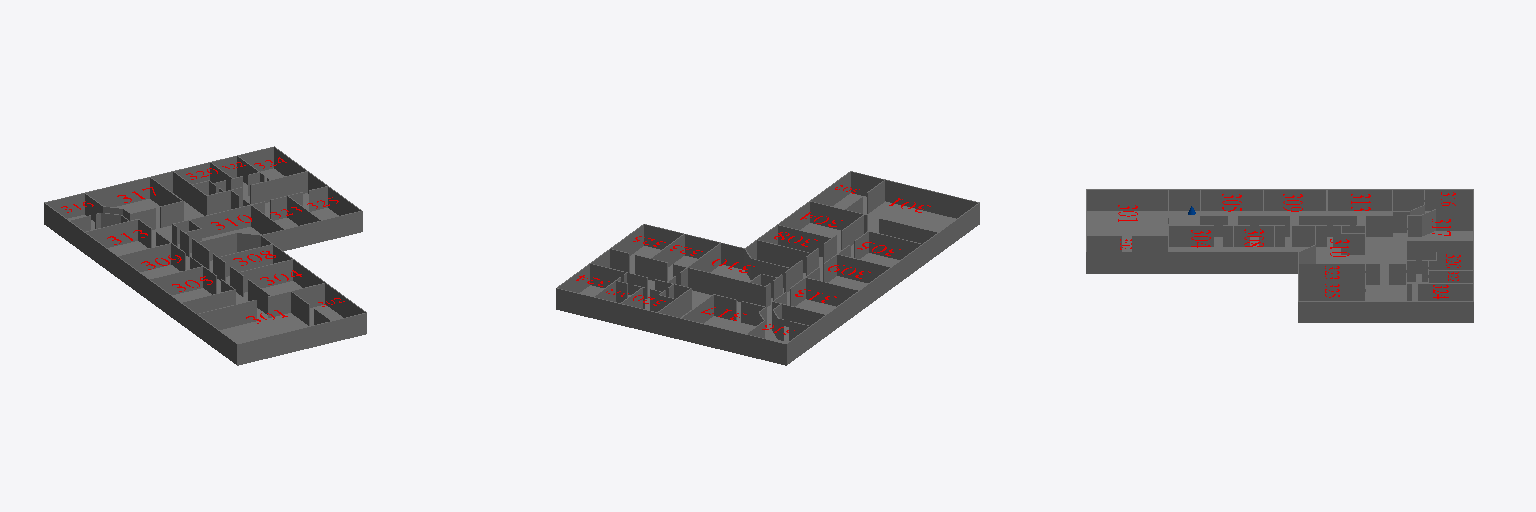
Rendered from sage3.obj.
3 renders of one model, left to right at view 1: azimuth 30°, elevation 25°; view 2: azimuth 150°, elevation 25°; view 3: azimuth 270°, elevation 25°, orthographic.
Parts seen in each view (by area): view 1: polySurface1 polySurface9, polySurface1 polySurface3, polySurface1 polySurface11, polySurface1 polySurface7, polySurface1 polySurface10, polySurface1 polySurface12, polySurface1 polySurface21, polySurface1 polySurface8, polySurface1 polySurface15, polySurface1 polySurface40, polySurface1 polySurface43, polySurface1 polySurface61 (+11 smaller); view 2: polySurface1 polySurface9, polySurface1 polySurface3, polySurface1 polySurface10, polySurface1 polySurface11, polySurface1 polySurface8, polySurface1 polySurface21, polySurface1 polySurface7, polySurface1 polySurface12, polySurface2 polySurface1, polySurface1 polySurface43, polySurface1 polySurface47, polySurface1 polySurface49 (+9 smaller); view 3: polySurface1 polySurface9, polySurface1 polySurface3, polySurface1 polySurface12, polySurface1 polySurface6, polySurface1 polySurface16, polySurface1 polySurface4, polySurface1 polySurface44, polySurface1 polySurface68, polySurface2 polySurface1, polySurface1 polySurface19, polySurface1 polySurface62, polySurface1 polySurface28 (+9 smaller).
Boxes of the visible parts, x1,y1,x2,y2 form: polySurface1 polySurface9: [44, 203, 237, 365]; polySurface1 polySurface3: [68, 193, 342, 343]; polySurface1 polySurface11: [238, 313, 366, 365]; polySurface1 polySurface7: [261, 211, 362, 250]; polySurface1 polySurface10: [44, 171, 172, 218]; polySurface1 polySurface12: [261, 236, 366, 317]; polySurface1 polySurface21: [172, 201, 264, 243]; polySurface1 polySurface8: [174, 146, 274, 183]; polySurface1 polySurface15: [250, 171, 307, 203]; polySurface1 polySurface40: [198, 300, 256, 329]; polySurface1 polySurface43: [268, 283, 324, 317]; polySurface1 polySurface61: [240, 259, 292, 292]; polySurface1 polySurface9: [786, 203, 979, 365]; polySurface1 polySurface3: [682, 193, 955, 343]; polySurface1 polySurface10: [657, 313, 785, 365]; polySurface1 polySurface11: [851, 171, 979, 218]; polySurface1 polySurface8: [556, 288, 656, 333]; polySurface1 polySurface21: [673, 264, 765, 306]; polySurface1 polySurface7: [644, 224, 743, 269]; polySurface1 polySurface12: [744, 171, 850, 259]; polySurface2 polySurface1: [580, 246, 743, 310]; polySurface1 polySurface43: [810, 201, 867, 233]; polySurface1 polySurface47: [757, 240, 809, 272]; polySurface1 polySurface49: [805, 277, 858, 306]; polySurface1 polySurface9: [1087, 189, 1472, 210]; polySurface1 polySurface3: [1087, 211, 1472, 273]; polySurface1 polySurface12: [1087, 252, 1297, 273]; polySurface1 polySurface6: [1299, 301, 1410, 322]; polySurface1 polySurface16: [1299, 264, 1379, 284]; polySurface1 polySurface4: [1406, 301, 1472, 322]; polySurface1 polySurface44: [1299, 282, 1364, 300]; polySurface1 polySurface68: [1418, 283, 1472, 300]; polySurface2 polySurface1: [1366, 274, 1427, 300]; polySurface1 polySurface19: [1407, 252, 1472, 273]; polySurface1 polySurface62: [1169, 225, 1213, 246]; polySurface1 polySurface28: [1436, 209, 1472, 230].
Size of the model in its own units: 2267 by 201 by 3298.